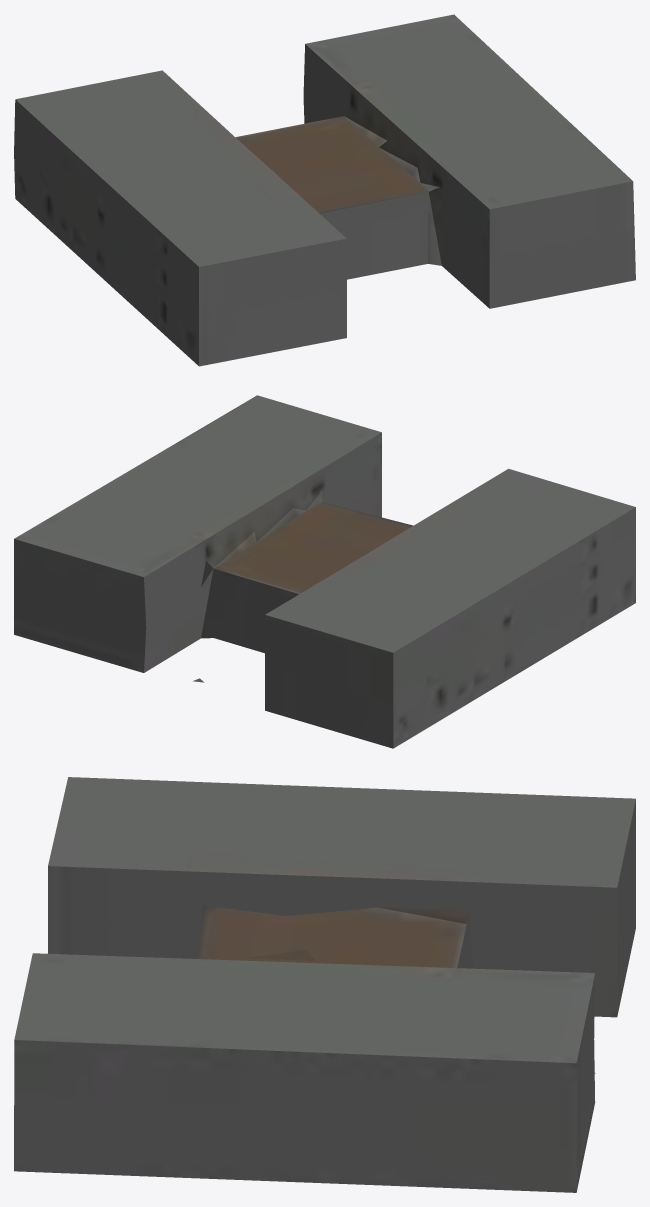
File: t_-5_-1.coat.glb
The picture shows the model from 3 angles, top to bottom: view 1: azimuth 30°, elevation 25°; view 2: azimuth 150°, elevation 25°; view 3: azimuth 270°, elevation 25°; orthographic projection. The views are drawn at different scales.
Parts seen in each view (by area): view 1: far; view 2: far; view 3: far.
Boxes of the visible parts, left/top/right/bottom form: far: left=14, top=14, right=635, bottom=366; far: left=14, top=395, right=635, bottom=748; far: left=14, top=777, right=635, bottom=1192.
Bounding box in the file's own units: 44.5 × 9.57 × 40.86.
1 material, 1 textured.
